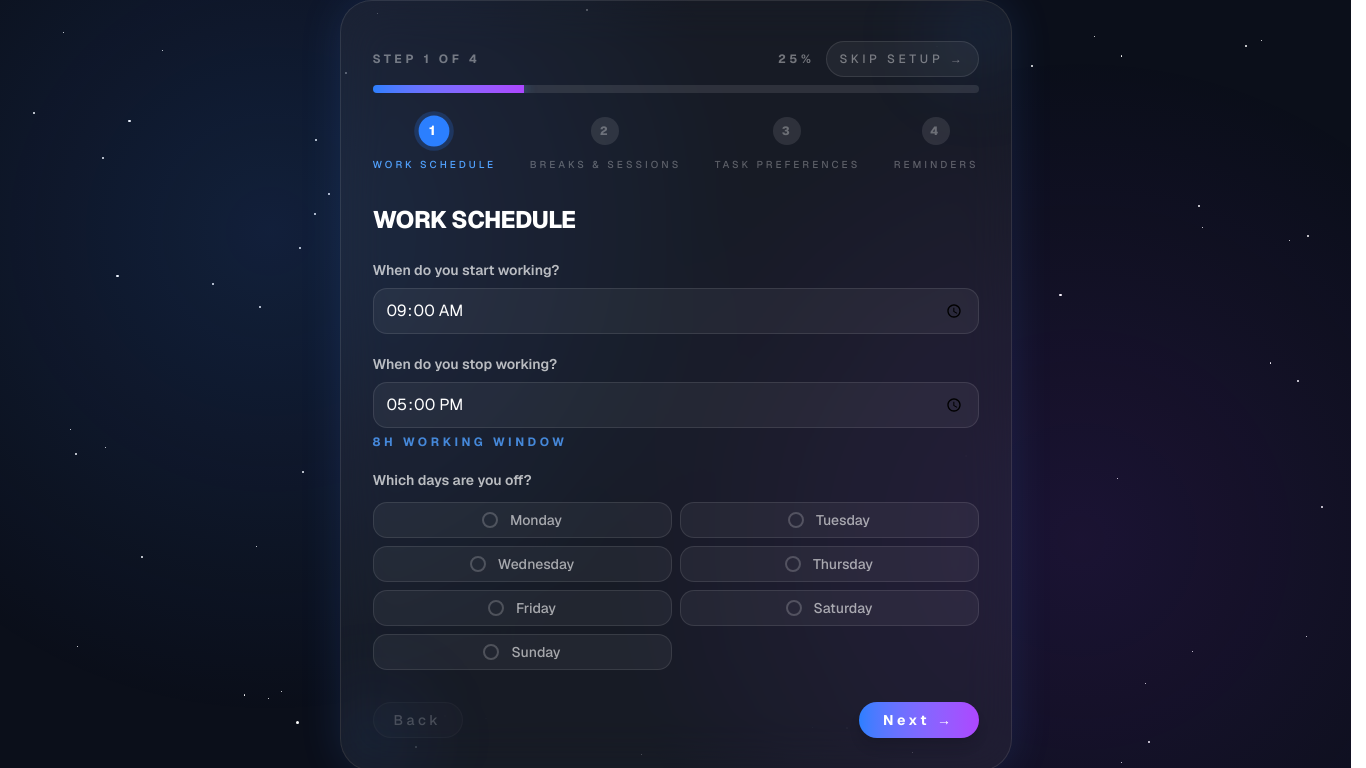
Test: Quiz Page › disables Back button on step 1 and enables after moving forward
Expected: the button "Back" is disabled, [372,702,462,738]
Click the button "Next →": (919, 720) [859,702,978,738]
(page scrolled)
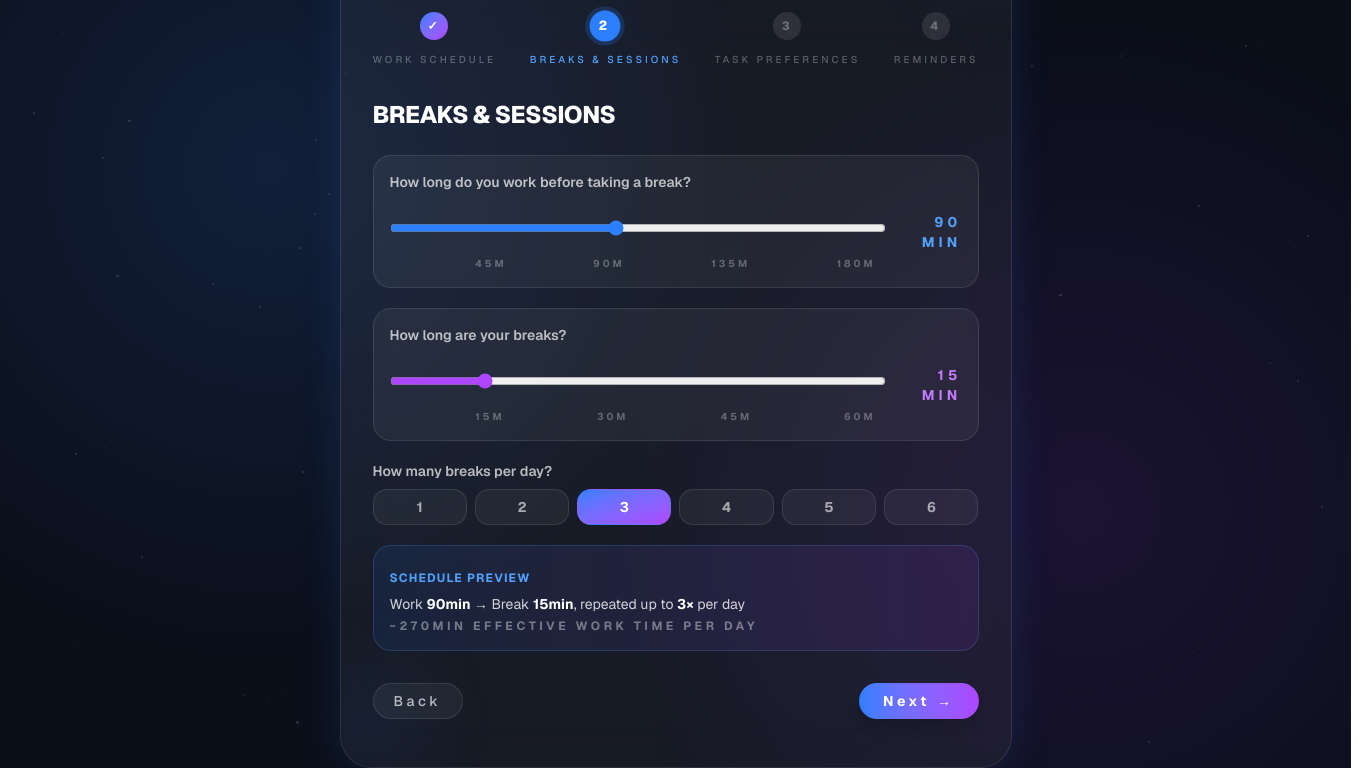
Expected: the button "Back" is enabled, [372,683,462,719]
